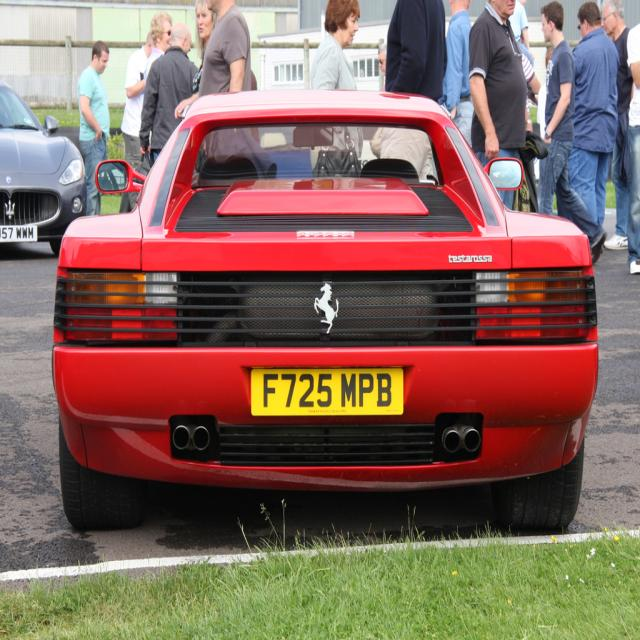car: (51, 86, 598, 531)
